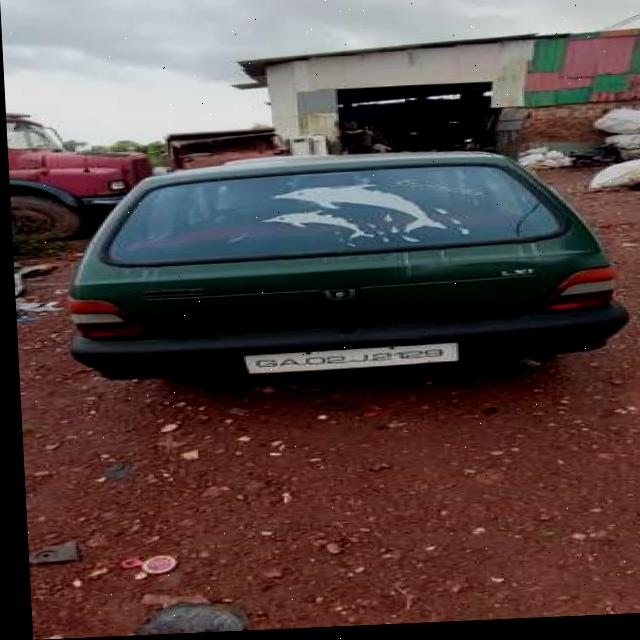plate: (240, 347, 454, 376)
